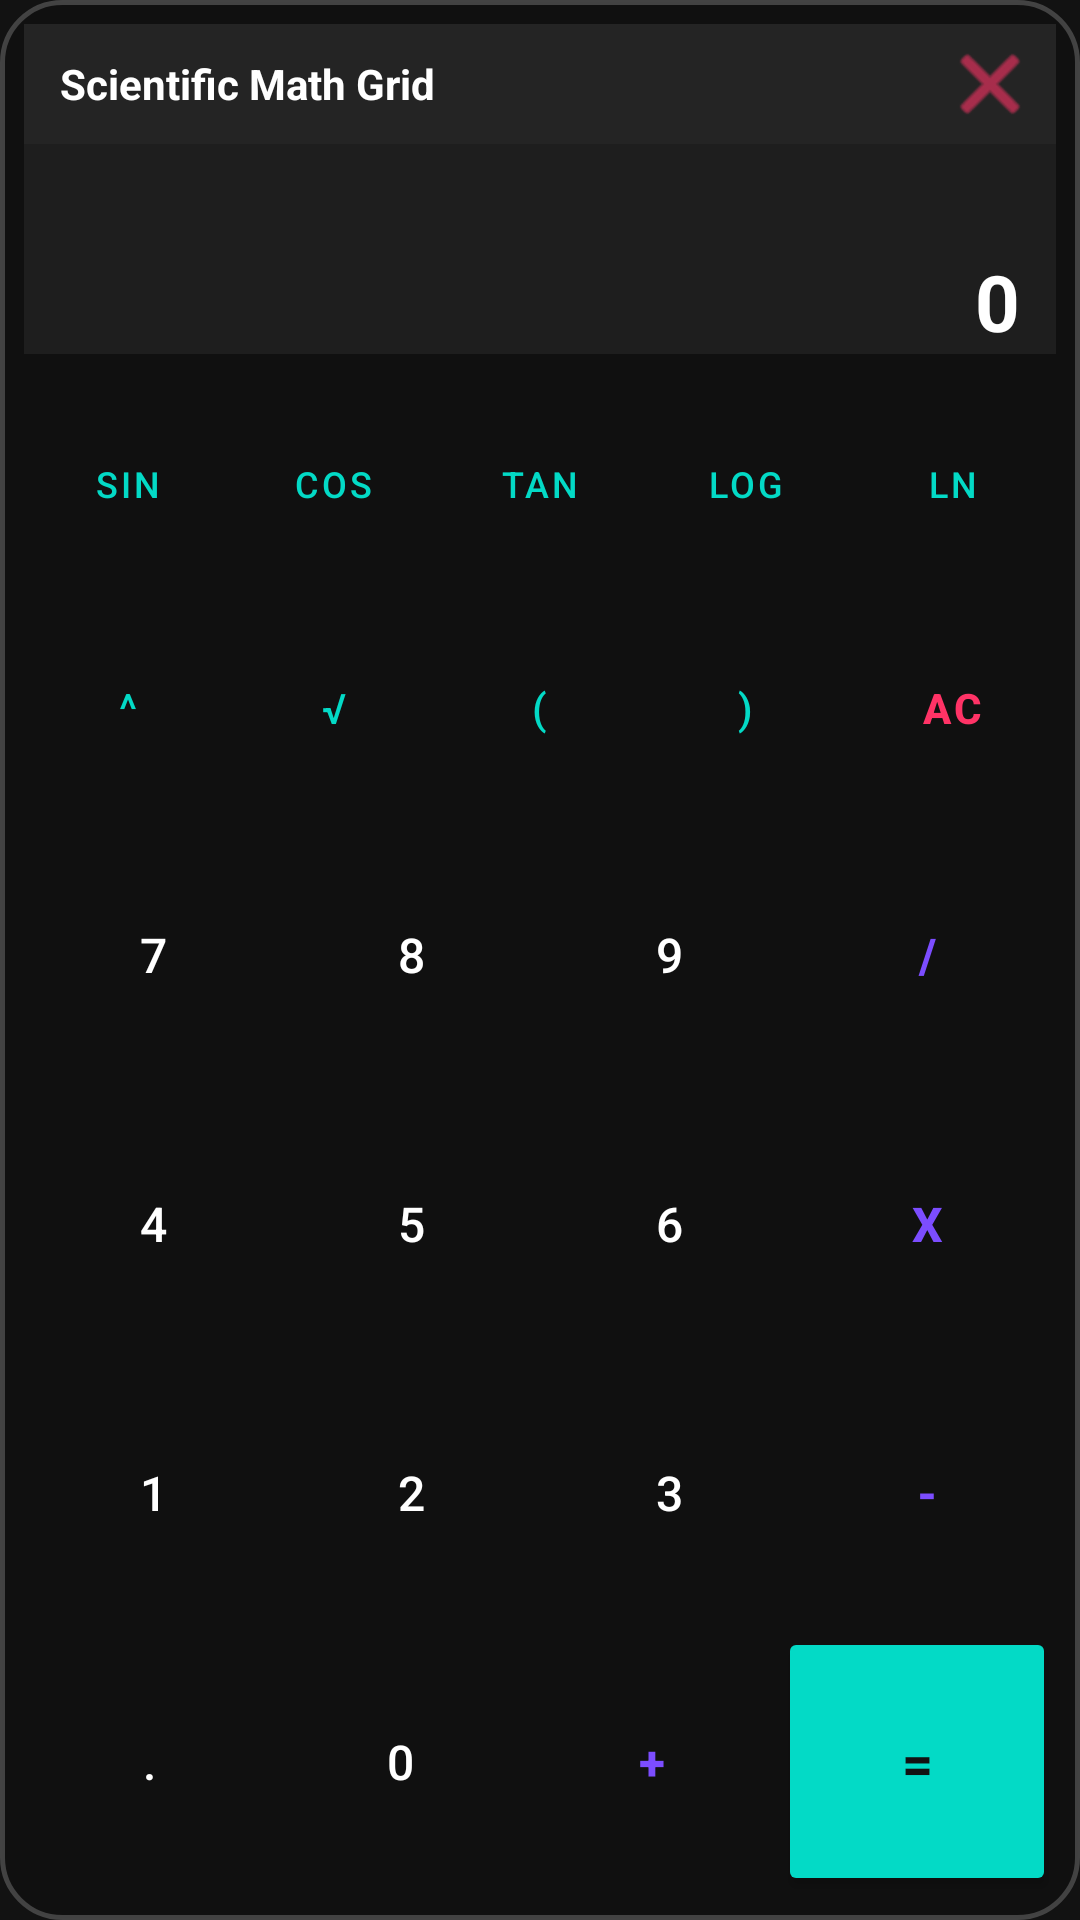

Named icons in this screenshot (1080*1920) and their bounding boxes, (x1, y1, x2, y2):
Close Calculator Window: (960, 54, 1020, 114)
